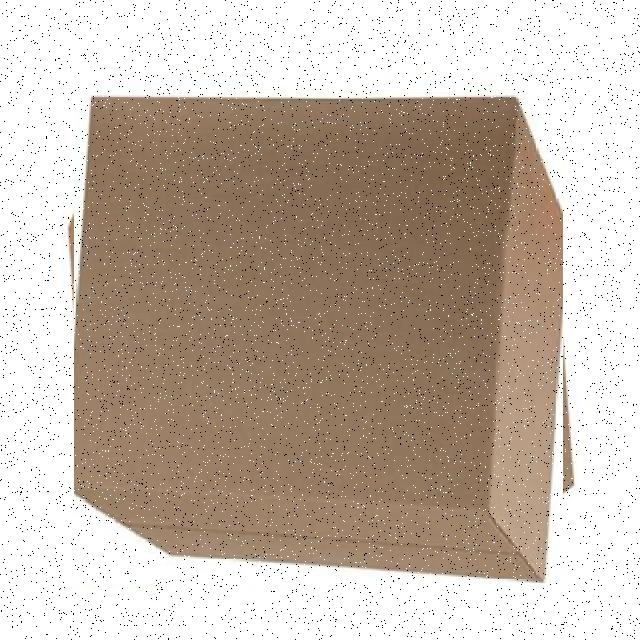normal: (74, 76, 563, 584)
